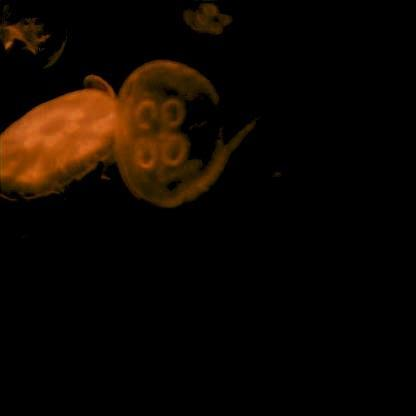Speckle: (192, 110, 361, 348), (1, 79, 117, 242), (116, 63, 229, 211), (2, 5, 70, 71), (172, 2, 244, 40)
